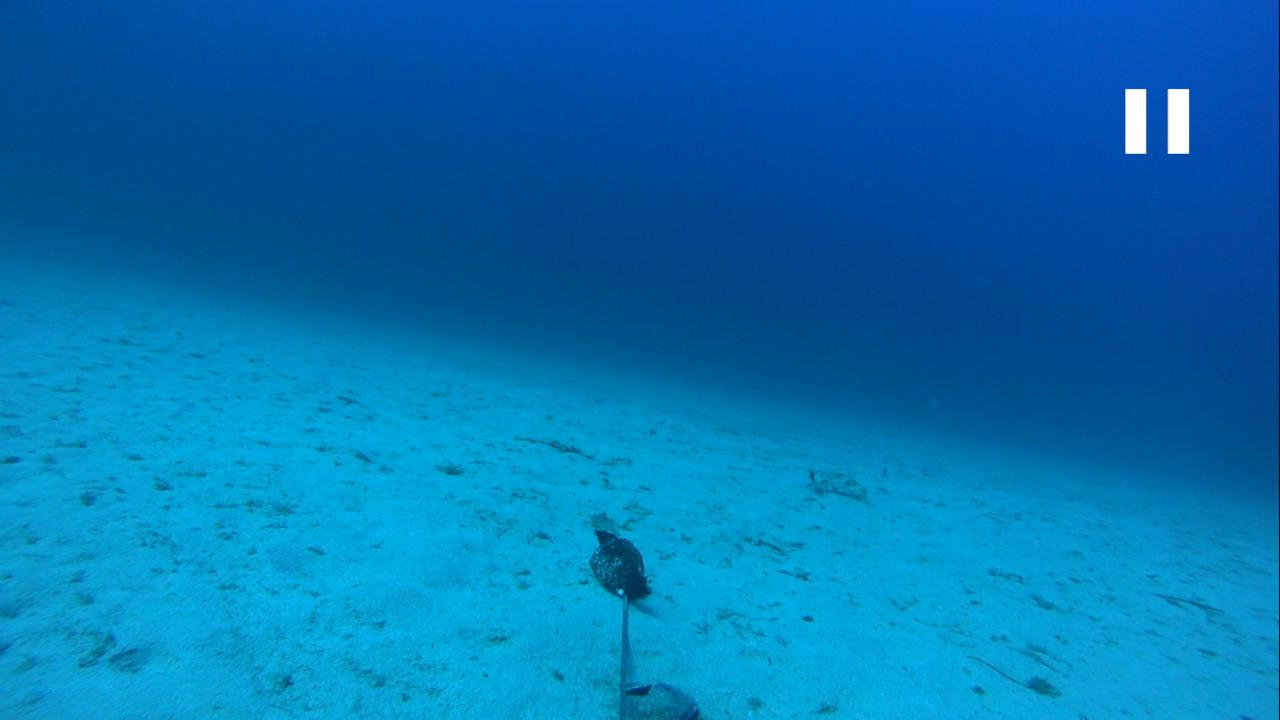dactylopterus: (786, 463, 875, 506)
